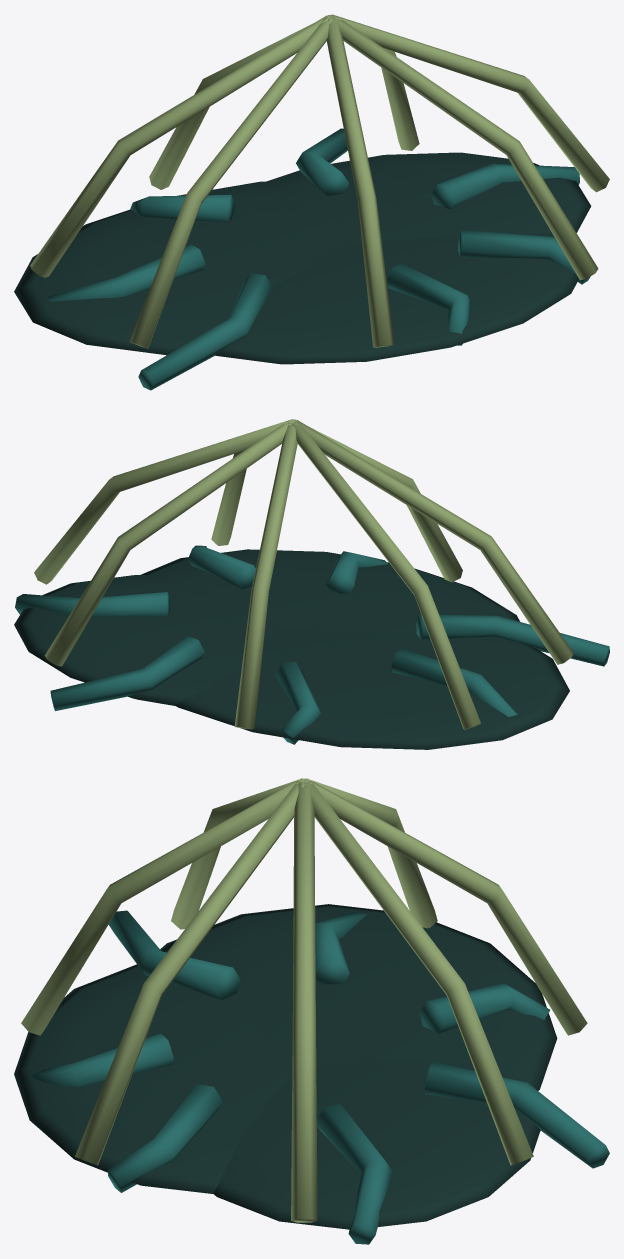
The model's file is construction_growth_stage_0.obj.
The picture shows the model from 3 angles, top to bottom: view 1: azimuth 30°, elevation 25°; view 2: azimuth 150°, elevation 25°; view 3: azimuth 270°, elevation 25°; orthographic projection. The views are drawn at different scales.
Parts seen in each view (by area): view 1: irregular_anchoring_lobe.123, irregular_anchoring_lobe.125, irregular_anchoring_lobe.124, living_scaffold_rib.003, living_scaffold_rib.006, living_scaffold_rib.004, living_scaffold_rib.005, living_scaffold_rib, anchoring_root.291, anchoring_root.293, anchoring_root.287, anchoring_root.290 (+5 smaller); view 2: irregular_anchoring_lobe.123, irregular_anchoring_lobe.124, irregular_anchoring_lobe.125, living_scaffold_rib.004, living_scaffold_rib.001, living_scaffold_rib.003, living_scaffold_rib.002, living_scaffold_rib, anchoring_root.288, anchoring_root.291, anchoring_root.287, anchoring_root.290 (+5 smaller); view 3: irregular_anchoring_lobe.123, irregular_anchoring_lobe.125, irregular_anchoring_lobe.124, living_scaffold_rib, living_scaffold_rib.006, living_scaffold_rib.001, living_scaffold_rib.005, living_scaffold_rib.002, anchoring_root.288, anchoring_root.287, anchoring_root.293, anchoring_root.291 (+5 smaller).
Boxes of the visible parts, box(x1,y1,x2,y2) form: irregular_anchoring_lobe.123: box(14, 181, 357, 355); irregular_anchoring_lobe.125: box(214, 233, 578, 364); irregular_anchoring_lobe.124: box(266, 152, 591, 241); living_scaffold_rib.003: box(30, 15, 328, 277); living_scaffold_rib.006: box(333, 16, 598, 280); living_scaffold_rib.004: box(129, 17, 333, 348); living_scaffold_rib.005: box(326, 18, 394, 347); living_scaffold_rib: box(331, 14, 609, 192); anchoring_root.291: box(138, 273, 272, 390); anchoring_root.293: box(458, 230, 590, 284); anchoring_root.287: box(430, 163, 579, 209); anchoring_root.290: box(48, 244, 205, 301); irregular_anchoring_lobe.123: box(175, 626, 569, 749); irregular_anchoring_lobe.124: box(14, 575, 275, 705); irregular_anchoring_lobe.125: box(140, 549, 519, 639); living_scaffold_rib.004: box(295, 420, 573, 664); living_scaffold_rib.001: box(44, 420, 291, 666); living_scaffold_rib.003: box(291, 421, 480, 729); living_scaffold_rib.002: box(234, 423, 297, 729); living_scaffold_rib: box(34, 419, 292, 584); anchoring_root.288: box(50, 636, 204, 710); anchoring_root.291: box(416, 614, 609, 666); anchoring_root.287: box(15, 592, 170, 617); anchoring_root.290: box(391, 648, 517, 716); irregular_anchoring_lobe.123: box(160, 904, 557, 1090); irregular_anchoring_lobe.125: box(14, 964, 292, 1193); irregular_anchoring_lobe.124: box(214, 1060, 540, 1229); living_scaffold_rib: box(291, 782, 317, 1222); living_scaffold_rib.006: box(75, 781, 305, 1165); living_scaffold_rib.001: box(303, 781, 533, 1165); living_scaffold_rib.005: box(21, 779, 300, 1035); living_scaffold_rib.002: box(308, 779, 587, 1035); anchoring_root.288: box(425, 1061, 609, 1168); anchoring_root.287: box(316, 1104, 392, 1244); anchoring_root.293: box(107, 1084, 222, 1192); anchoring_root.291: box(108, 910, 240, 999).
Size of the model in its own units: 3.25 by 1.42 by 2.46.
